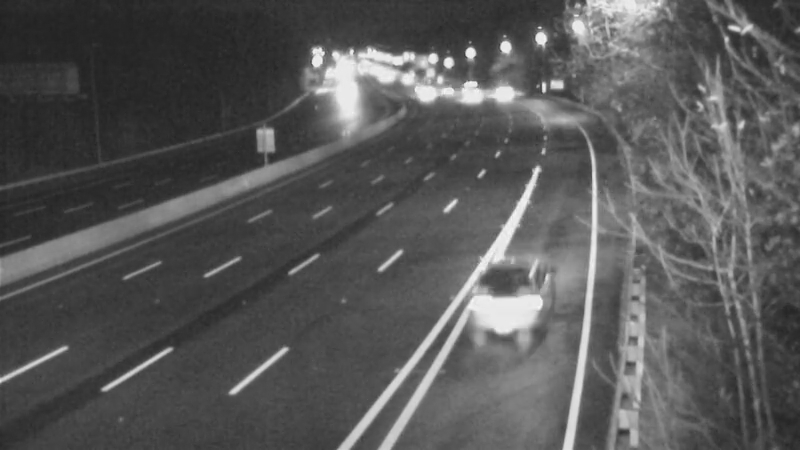vehicle: (442, 257, 552, 367), (426, 66, 476, 116), (484, 68, 534, 118), (398, 69, 448, 119), (441, 72, 491, 122)
